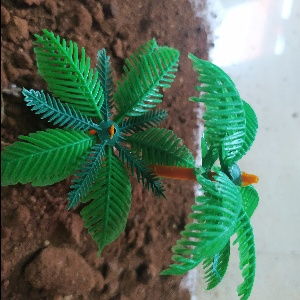plant: (13, 32, 175, 251), (178, 49, 275, 294)
